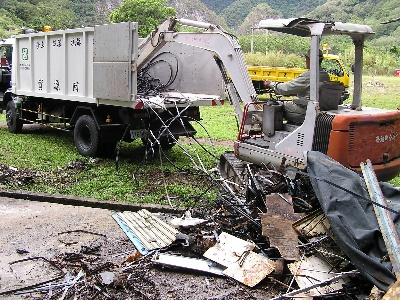plastic_bag: (305, 146, 400, 294)
